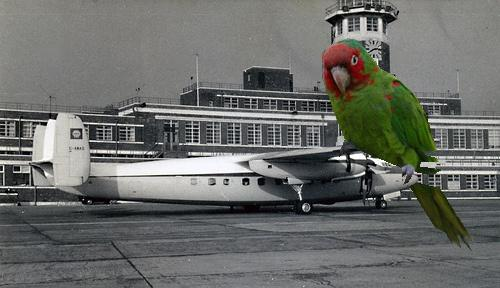tampered: (323, 39, 473, 252)
